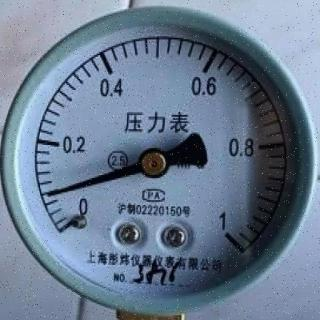gauge: (8, 17, 310, 310), (52, 194, 98, 242), (205, 210, 248, 258), (138, 147, 170, 179), (42, 187, 58, 201)
